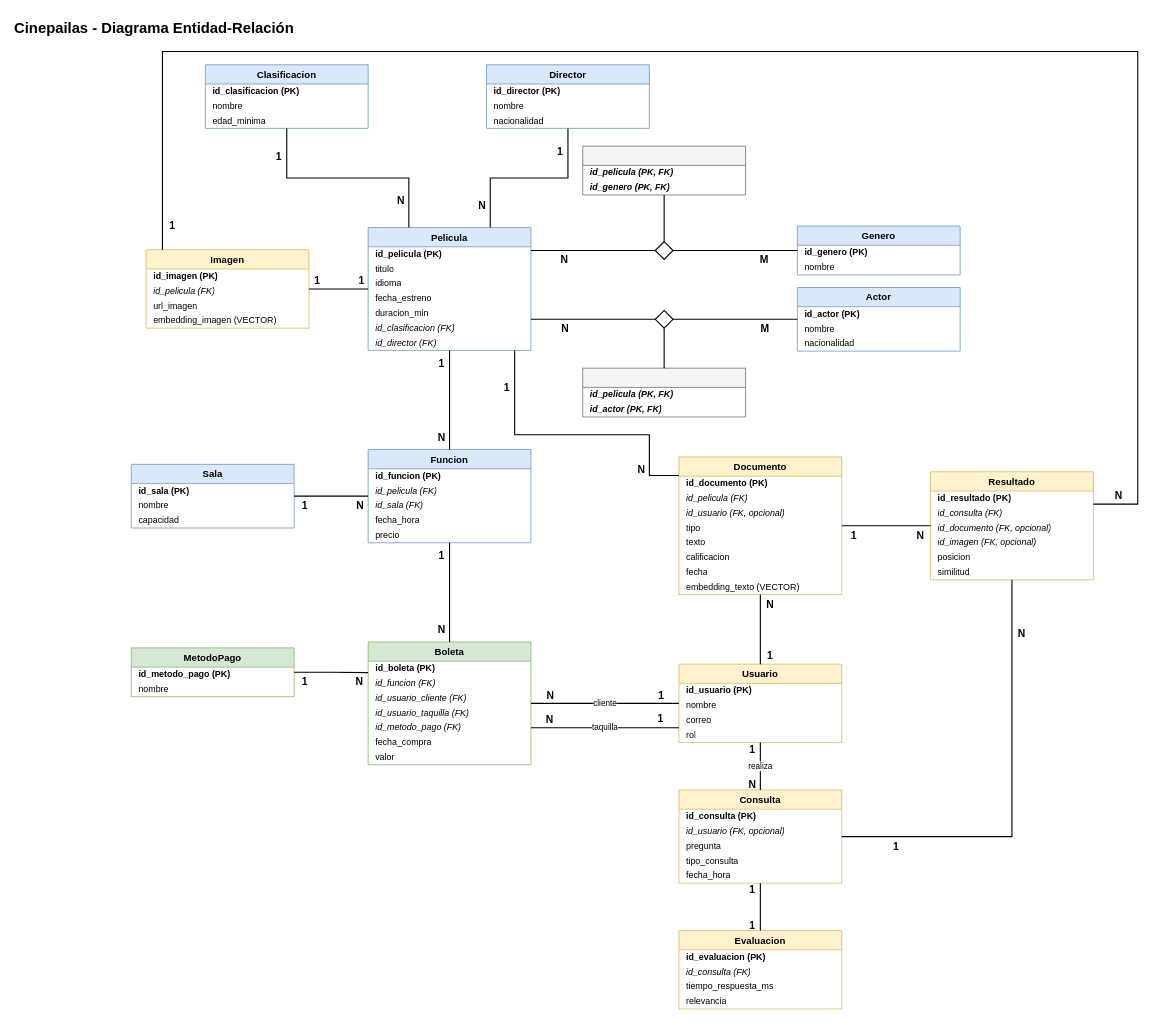
This 1151x1022 diagram has some shape labels left out. Here are the shapes that lost their labels. From the top down, the box of each, then its label:
(582, 145, 746, 195): Pelicula_Genero
(582, 367, 746, 417): Pelicula_Actor
